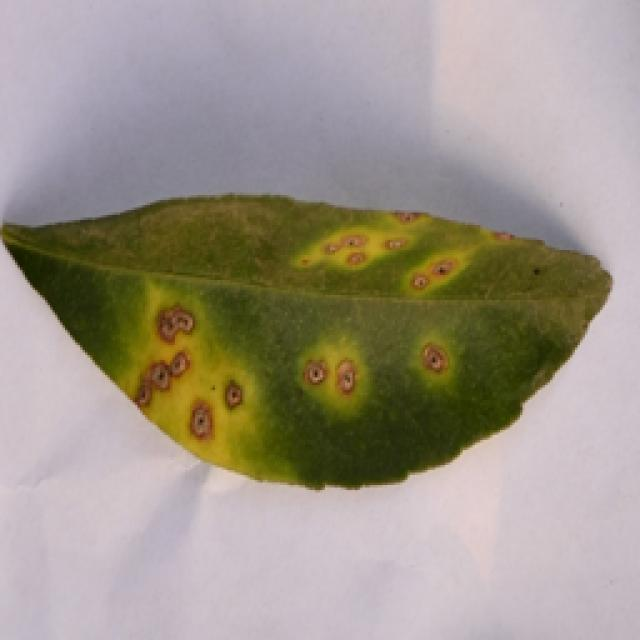canker: (58, 196, 563, 493)
